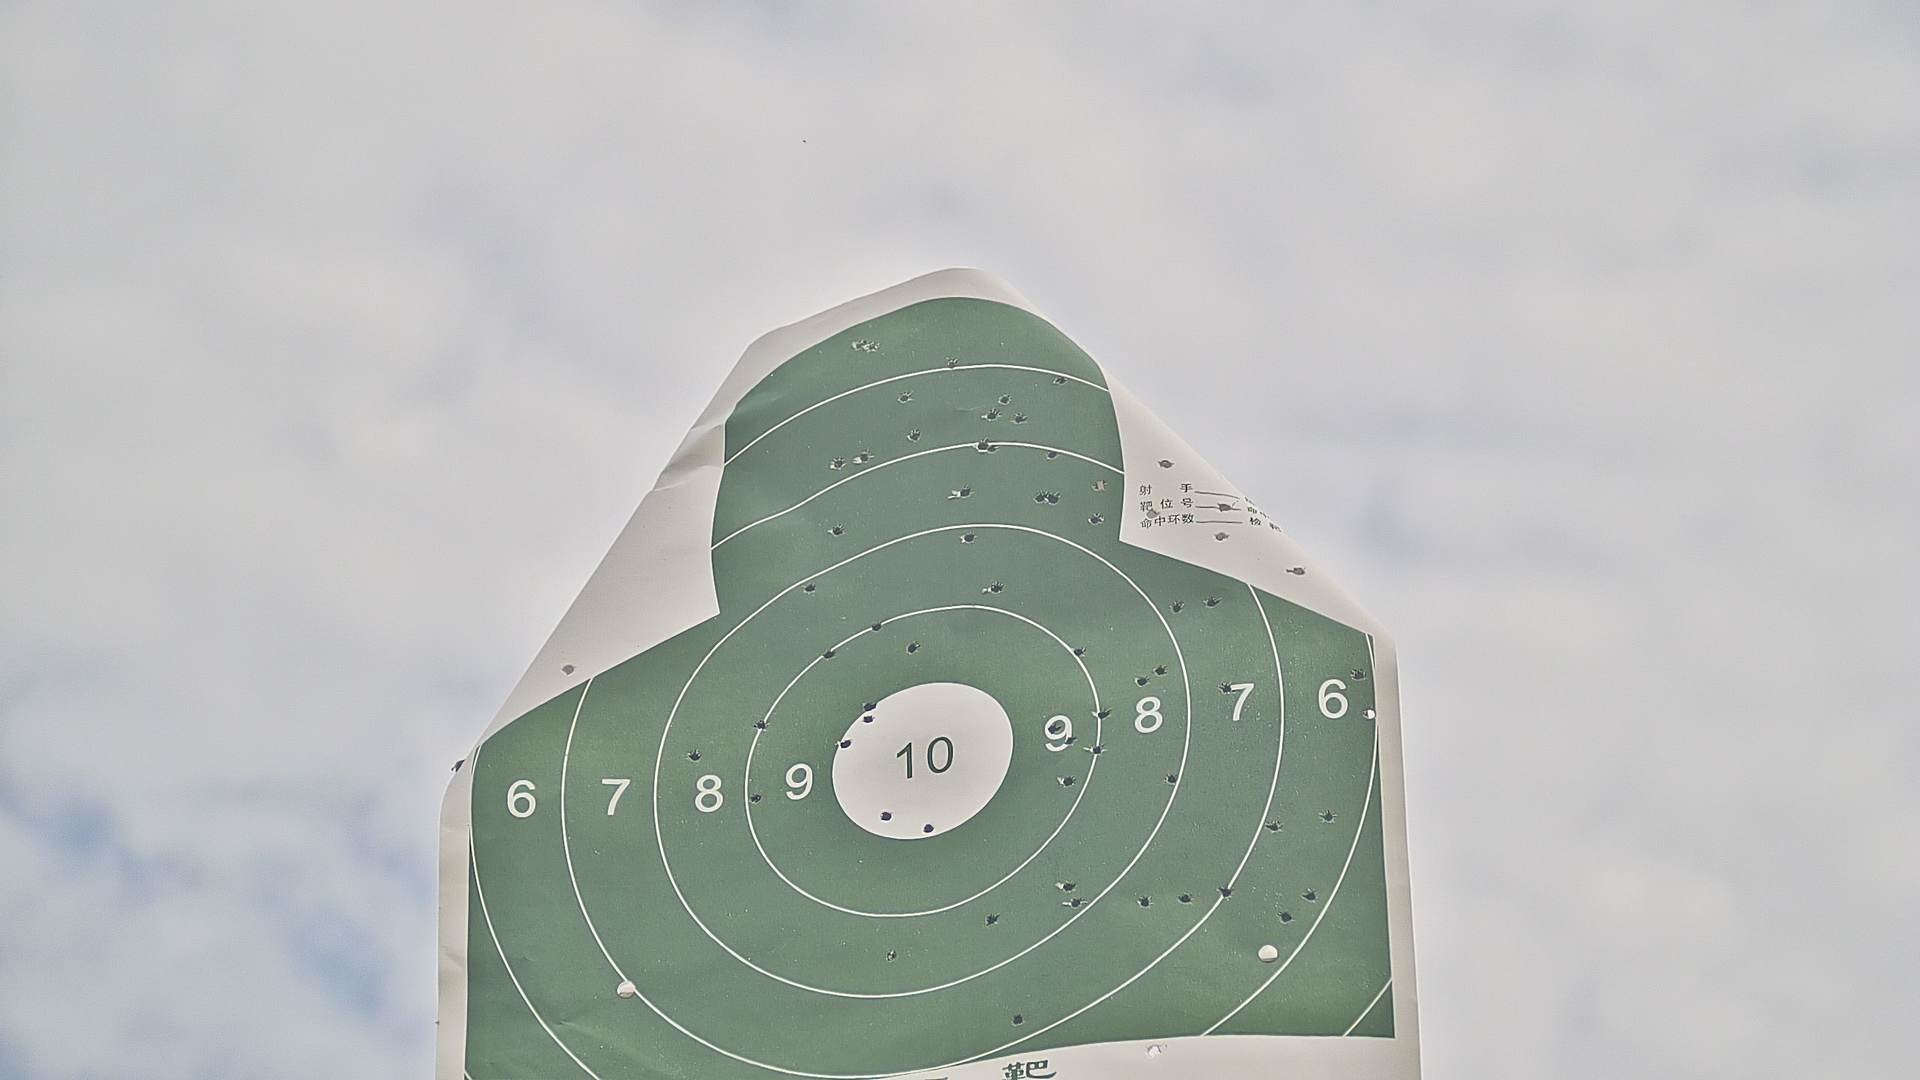hole: (1156, 458, 1175, 472), (1286, 564, 1305, 578), (1265, 819, 1280, 833), (1216, 502, 1234, 514), (1170, 600, 1185, 613), (1153, 663, 1168, 676), (1320, 812, 1336, 825), (1059, 880, 1076, 891), (1280, 910, 1294, 924), (1147, 1043, 1160, 1058), (1145, 509, 1162, 520), (1164, 771, 1178, 785), (1071, 644, 1085, 655), (1218, 682, 1233, 694), (1010, 1013, 1025, 1025), (560, 665, 575, 676), (1348, 669, 1364, 679), (945, 359, 959, 371), (897, 393, 909, 406), (977, 440, 989, 454), (1092, 480, 1105, 492), (990, 580, 1002, 593), (1364, 707, 1375, 720), (1139, 895, 1151, 909), (1069, 897, 1083, 909), (1063, 773, 1075, 786), (862, 700, 877, 711), (851, 338, 862, 349), (1034, 491, 1046, 502), (802, 582, 814, 593), (984, 913, 996, 924), (1044, 448, 1058, 459), (960, 487, 973, 497), (687, 750, 700, 761), (1088, 514, 1102, 524), (1215, 531, 1229, 541), (1013, 413, 1025, 423), (1304, 890, 1316, 901), (823, 647, 835, 658), (881, 808, 891, 820), (886, 947, 897, 959), (750, 793, 762, 803), (757, 720, 769, 731), (858, 452, 872, 462), (1207, 596, 1216, 609), (905, 642, 918, 651), (1180, 893, 1191, 903), (840, 738, 851, 749), (998, 394, 1010, 404), (986, 410, 998, 419), (833, 524, 843, 535), (1221, 885, 1230, 897), (1097, 708, 1109, 717), (862, 713, 874, 723), (923, 822, 932, 833), (1054, 375, 1064, 384), (988, 444, 998, 454), (1048, 492, 1058, 502), (1137, 675, 1147, 684), (1092, 744, 1102, 753), (909, 431, 920, 439), (965, 531, 973, 543), (870, 622, 884, 629), (833, 458, 843, 467), (1065, 735, 1075, 744), (866, 344, 877, 352), (1048, 723, 1058, 731)
kernel: (916, 757, 922, 760)
target: (464, 297, 1399, 1077)
ten: (832, 680, 1013, 837)
